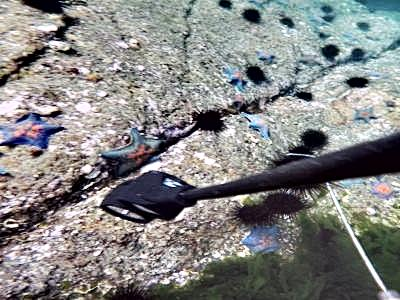urchin: (266, 192, 308, 218), (192, 107, 224, 131), (236, 203, 272, 224), (297, 128, 321, 148), (246, 64, 264, 83), (348, 73, 365, 86), (241, 10, 260, 21), (298, 92, 312, 104), (323, 44, 337, 56)
